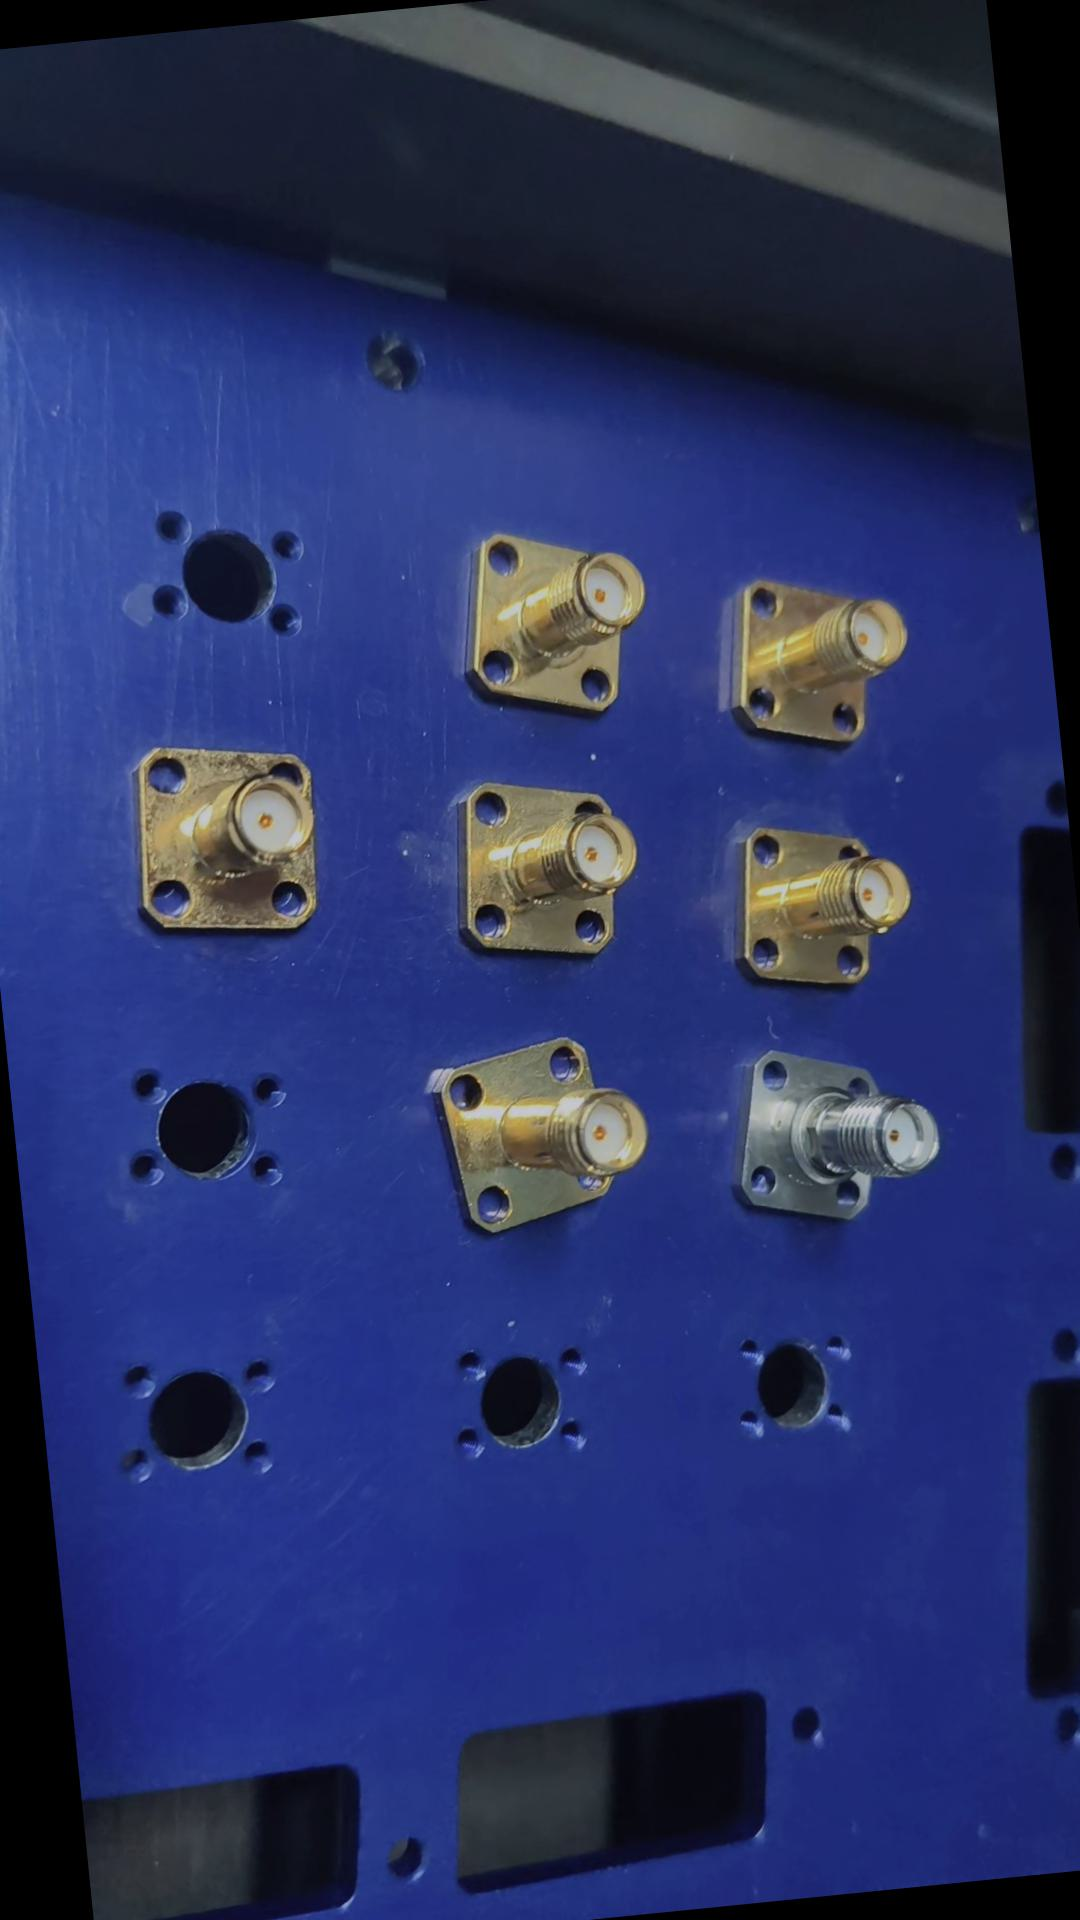SMA: (419, 1025, 658, 1247), (440, 516, 651, 731), (115, 731, 326, 944), (435, 766, 646, 971), (717, 1035, 943, 1225), (709, 568, 915, 762), (715, 815, 916, 996)
